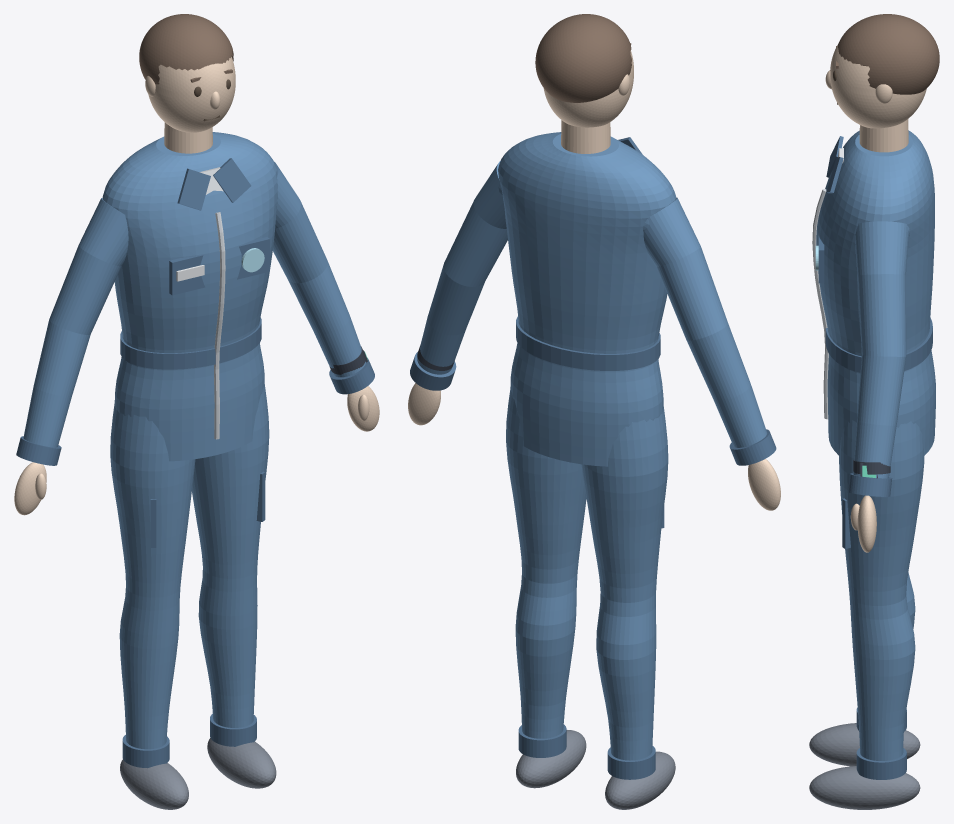
The model's file is crew-male.glb.
3 renders of one model, left to right at view 1: azimuth 30°, elevation 25°; view 2: azimuth 150°, elevation 25°; view 3: azimuth 270°, elevation 25°, orthographic. The views are drawn at different scales.
Visible parts, largest first — view 1: coverall_torso, coverall_leg_right, coverall_leg_left, coverall_arm_right, coverall_arm_left, head, hair, waist_band, shoe_left, shoe_right, zipper, neck (+10 smaller); view 2: coverall_torso, coverall_leg_right, coverall_leg_left, coverall_arm_right, coverall_arm_left, hair, waist_band, shoe_right, shoe_left, head, neck, hand_right (+5 smaller); view 3: coverall_torso, coverall_leg_left, coverall_arm_left, hair, head, shoe_left, shoe_right, waist_band, neck, cuff_ankle_left, zipper, hand_left (+7 smaller).
Part boxes in pixels (<box>): coverall_torso: <box>102,132,277,461</box>; coverall_leg_right: <box>110,404,195,749</box>; coverall_leg_left: <box>192,384,269,727</box>; coverall_arm_right: <box>23,198,128,447</box>; coverall_arm_left: <box>272,161,365,377</box>; head: <box>148,56,235,132</box>; hair: <box>139,14,233,84</box>; waist_band: <box>120,317,261,369</box>; shoe_left: <box>207,738,276,788</box>; shoe_right: <box>120,759,188,809</box>; zipper: <box>214,212,225,439</box>; neck: <box>164,122,212,153</box>; coverall_torso: <box>498,132,676,466</box>; coverall_leg_right: <box>581,407,668,760</box>; coverall_leg_left: <box>506,388,586,738</box>; coverall_arm_right: <box>643,197,767,447</box>; coverall_arm_left: <box>417,161,507,374</box>; hair: <box>535,14,631,102</box>; waist_band: <box>516,316,660,370</box>; shoe_right: <box>605,751,675,809</box>; shoe_left: <box>516,730,586,788</box>; head: <box>543,50,633,127</box>; neck: <box>561,120,610,153</box>; hand_right: <box>748,459,780,510</box>; coverall_torso: <box>816,130,935,455</box>; coverall_leg_left: <box>839,420,924,760</box>; coverall_arm_left: <box>853,221,908,478</box>; hair: <box>838,14,939,94</box>; head: <box>830,45,926,128</box>; shoe_left: <box>809,766,920,809</box>; shoe_right: <box>809,723,920,766</box>; waist_band: <box>825,317,932,372</box>; neck: <box>859,119,908,152</box>; cuff_ankle_left: <box>856,748,906,779</box>; zipper: <box>812,189,828,419</box>; hand_left: <box>857,495,876,552</box>.
Size of the model in its own units: 0.8745 by 1.75 by 0.2701.
